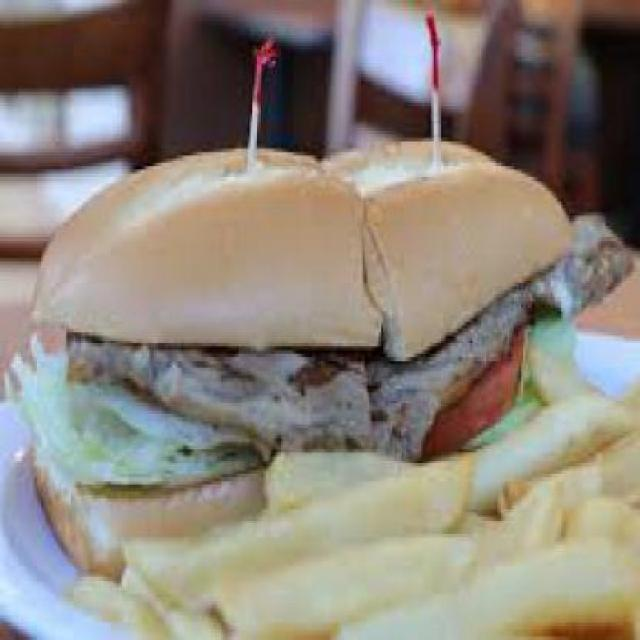french fries: (90, 428, 638, 637)
hamburger: (22, 131, 620, 446)
